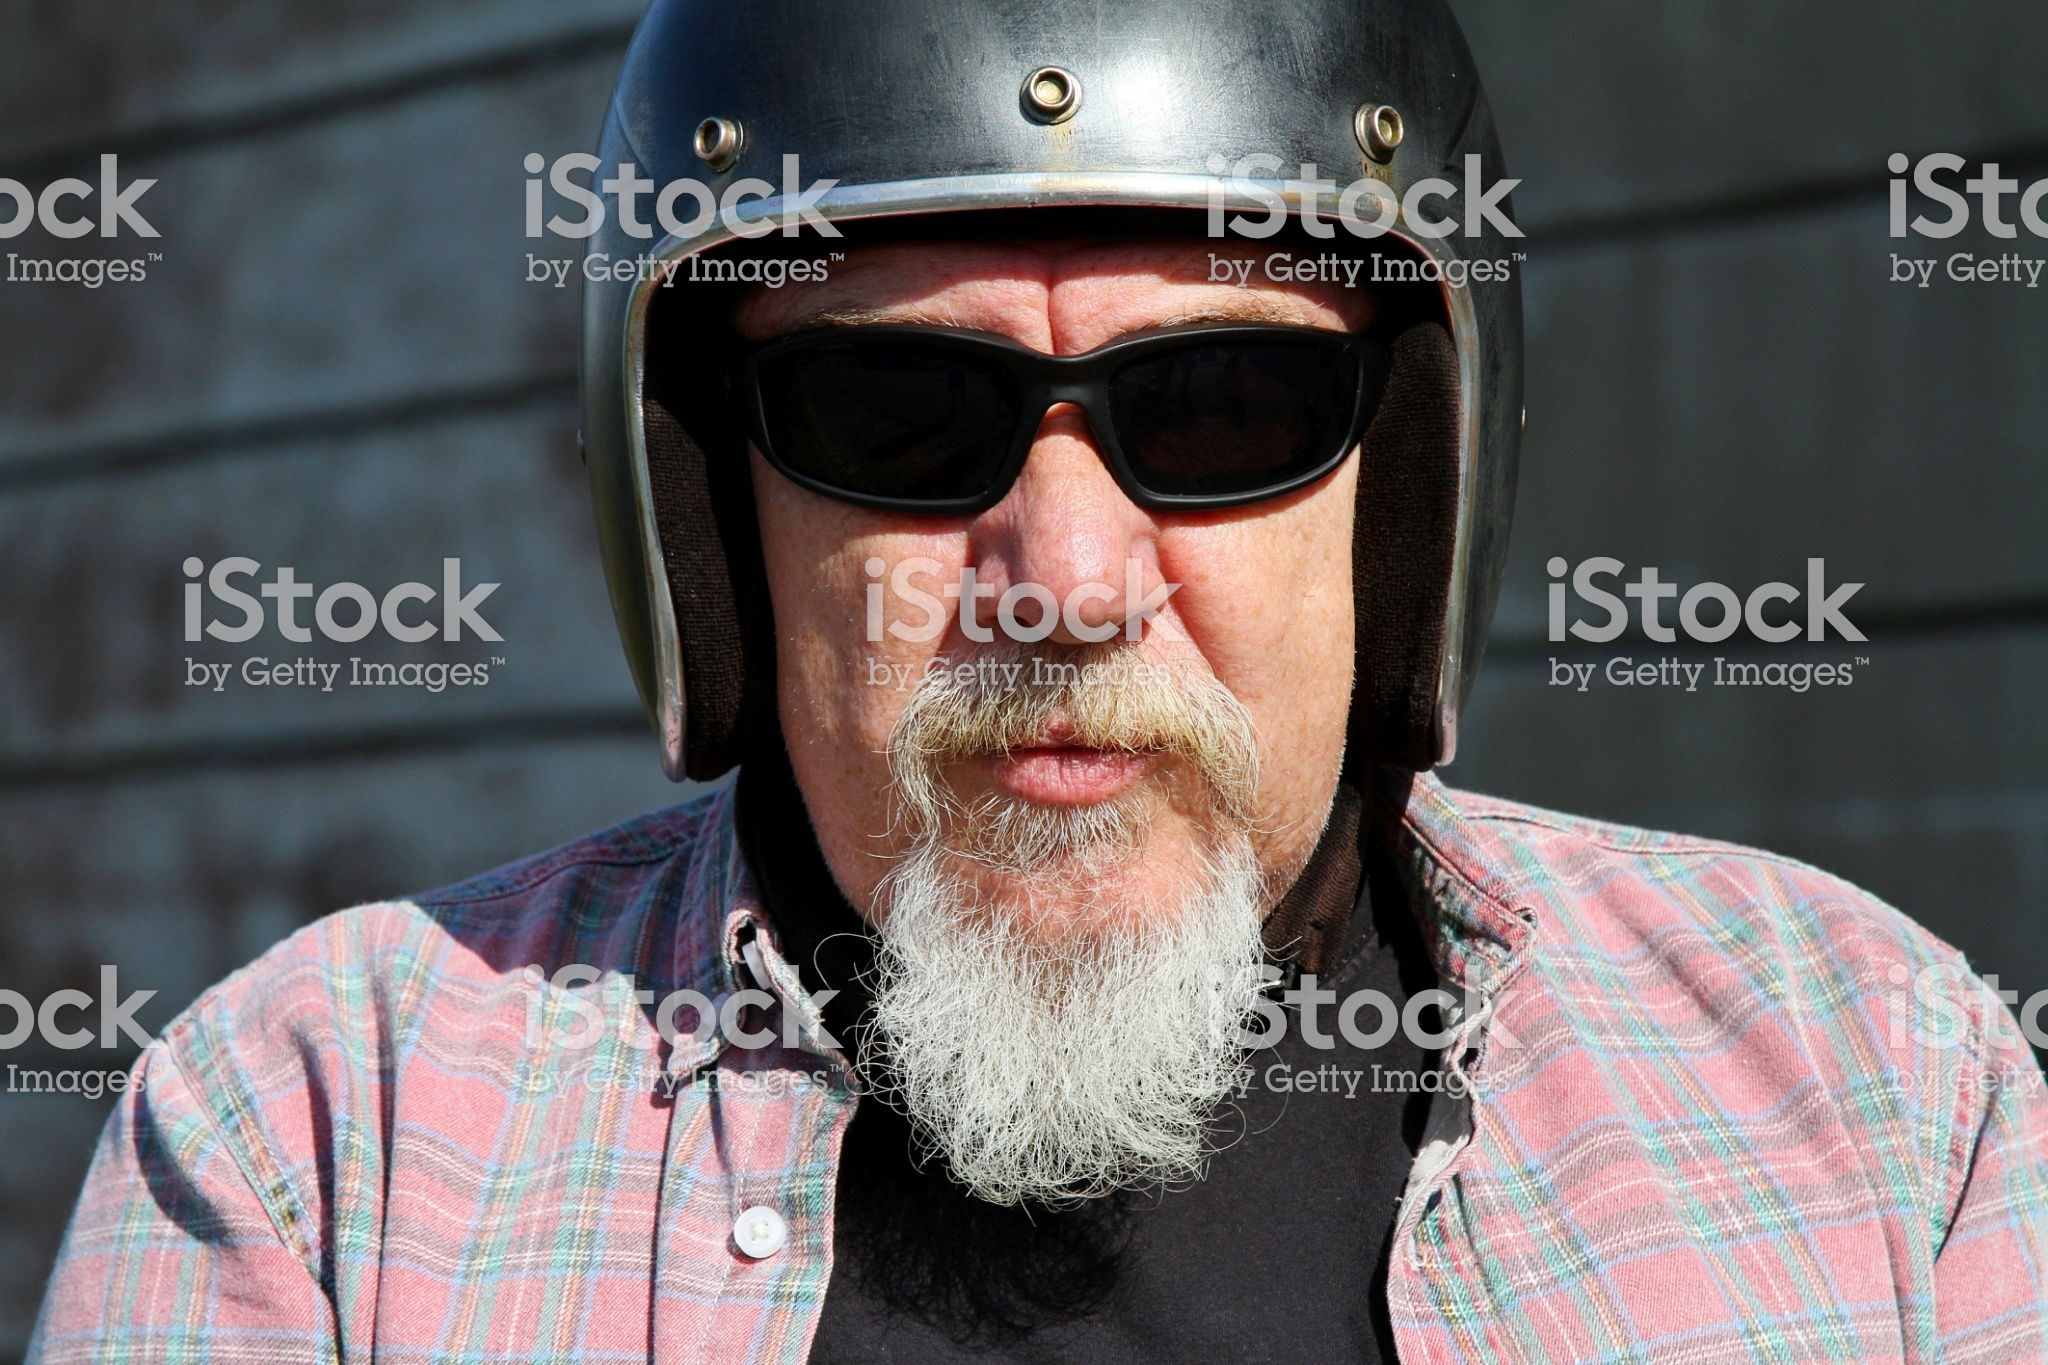helmet: (542, 11, 1571, 748)
